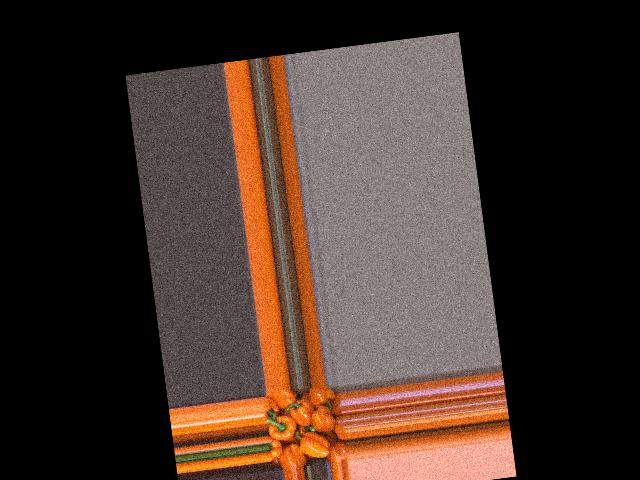bell_pepper: (323, 390, 344, 422)
